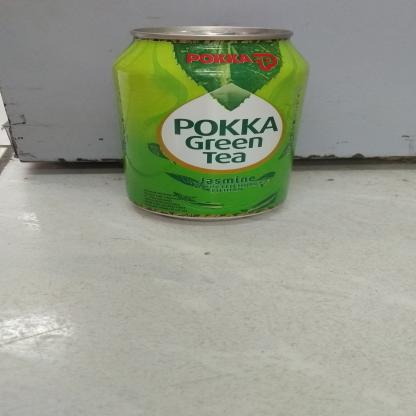mouse: (112, 21, 316, 227)
